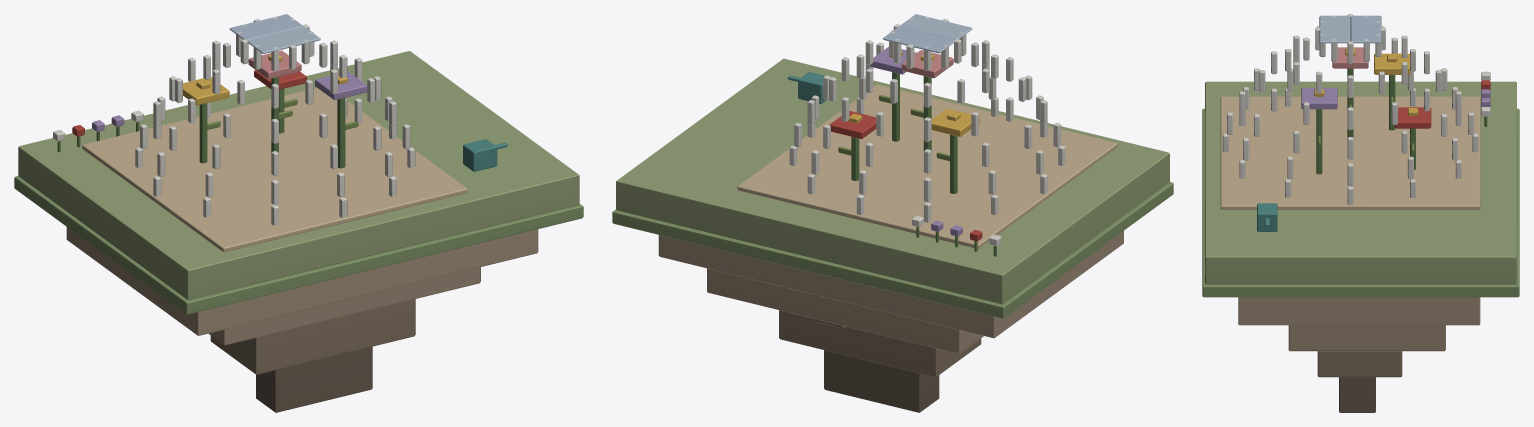
Rendered from region_23.glb.
The picture shows the model from 3 angles, left to right: view 1: azimuth 30°, elevation 25°; view 2: azimuth 150°, elevation 25°; view 3: azimuth 270°, elevation 25°; orthographic projection. The views are drawn at different scales.
Visible parts, largest first — view 1: region_23_static; view 2: region_23_static; view 3: region_23_static.
Boxes of the visible parts, box(x1,y1,x2,y2) form: region_23_static: box(14, 14, 583, 412); region_23_static: box(612, 14, 1173, 412); region_23_static: box(1202, 14, 1519, 412).
Size of the model in its own units: 8.1 by 7.3 by 6.1.
